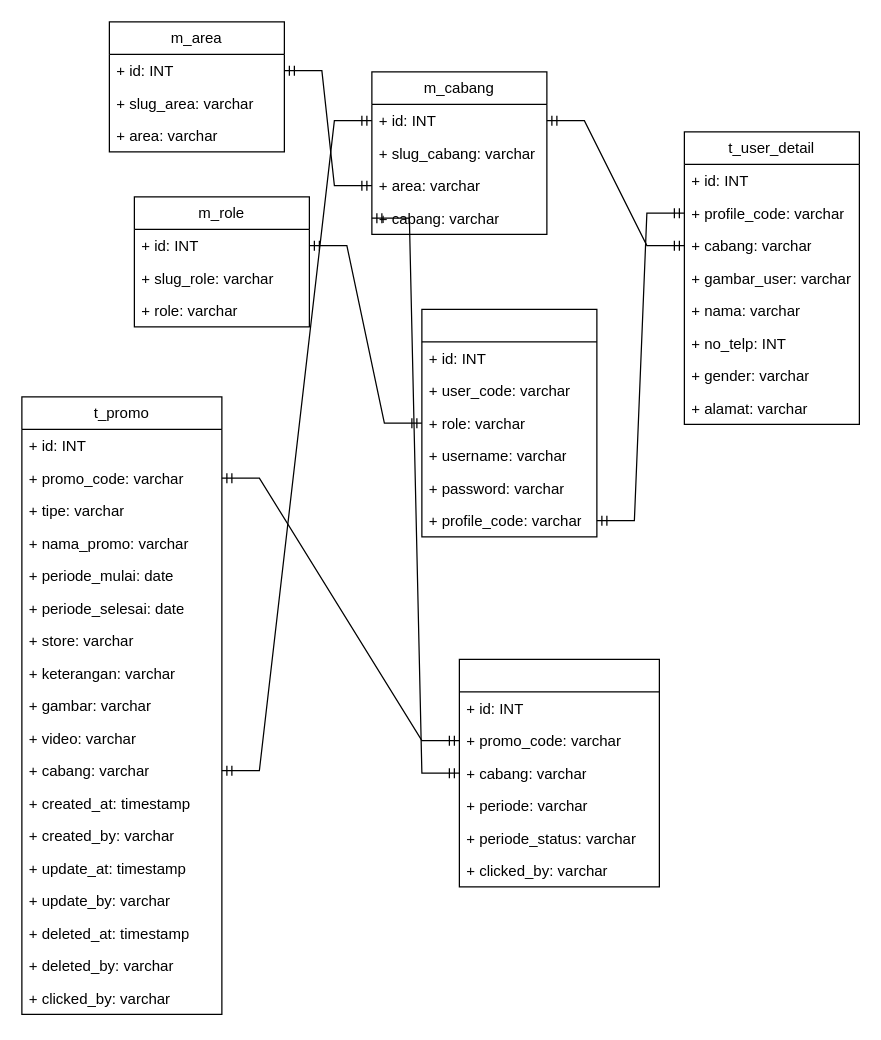
Image size: 881x1040. Some labels were removed from this diagram. The box of each missing label's shape, as (x1, y1, x2, y2) in pixels:
t_laporan: (458, 658, 659, 887)
t_user: (421, 308, 597, 537)
